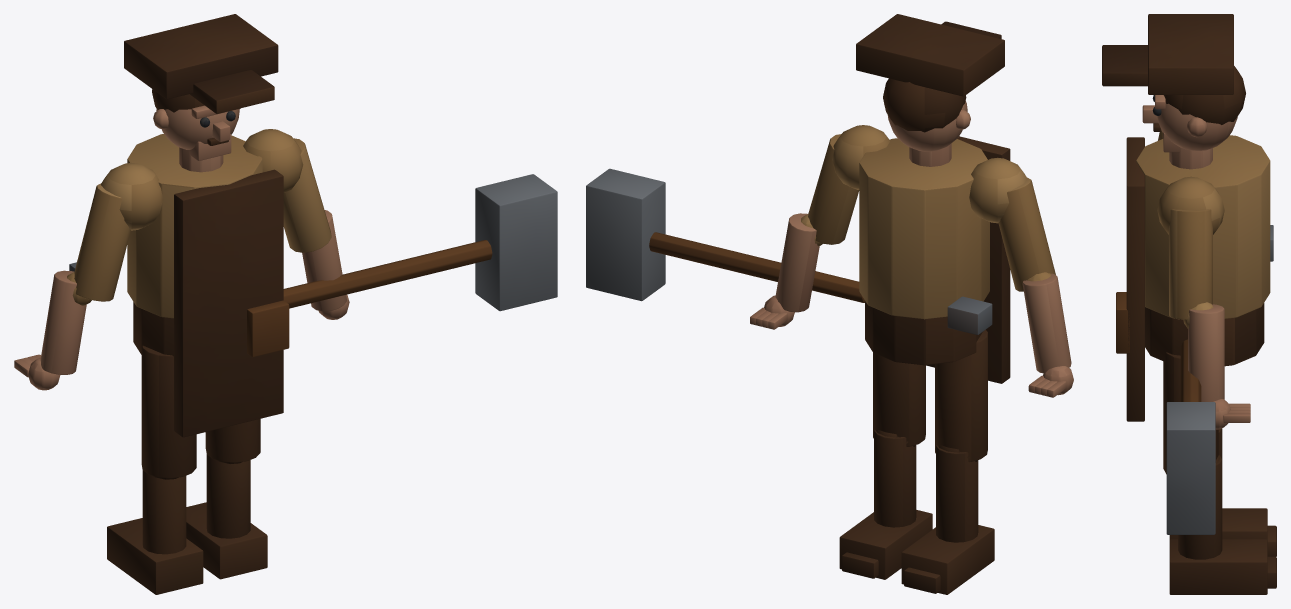
Rendered from unit_freetown_builder.fbx.
3 renders of one model, left to right at view 1: azimuth 30°, elevation 25°; view 2: azimuth 150°, elevation 25°; view 3: azimuth 270°, elevation 25°, orthographic. The views are drawn at different scales.
Visible parts, largest first — view 1: unit_freetown_builder; view 2: unit_freetown_builder; view 3: unit_freetown_builder.
Part boxes in pixels (x1,y1,x2,y2): unit_freetown_builder: (14, 14, 557, 594); unit_freetown_builder: (586, 14, 1073, 594); unit_freetown_builder: (1102, 14, 1276, 594).
Bounding box in the file's own units: 1.88 × 1.9 × 0.57.
